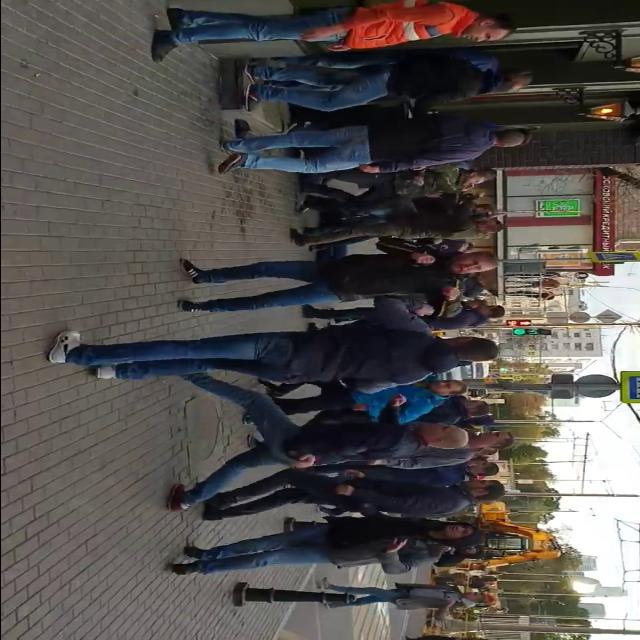NonViolence: (148, 4, 520, 56)
Violence: (290, 166, 502, 250)
